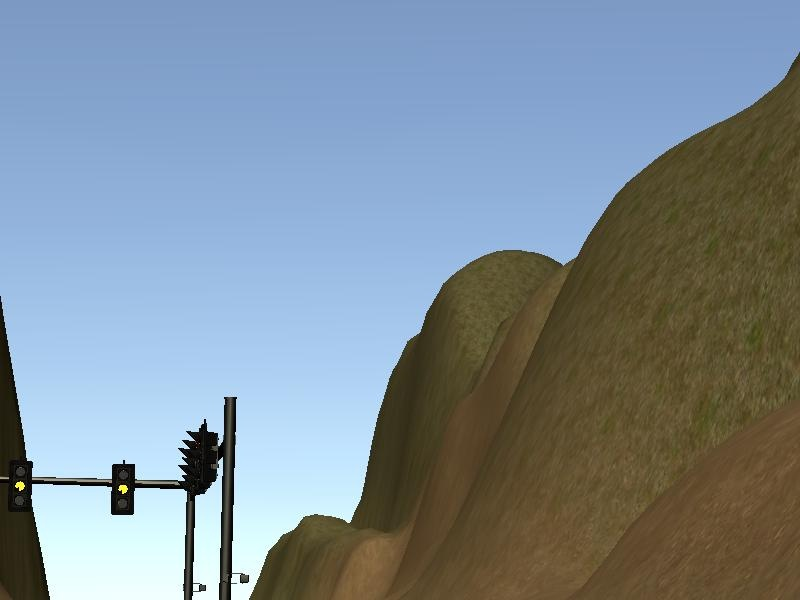yellow: (112, 463, 135, 517), (11, 461, 33, 512)
